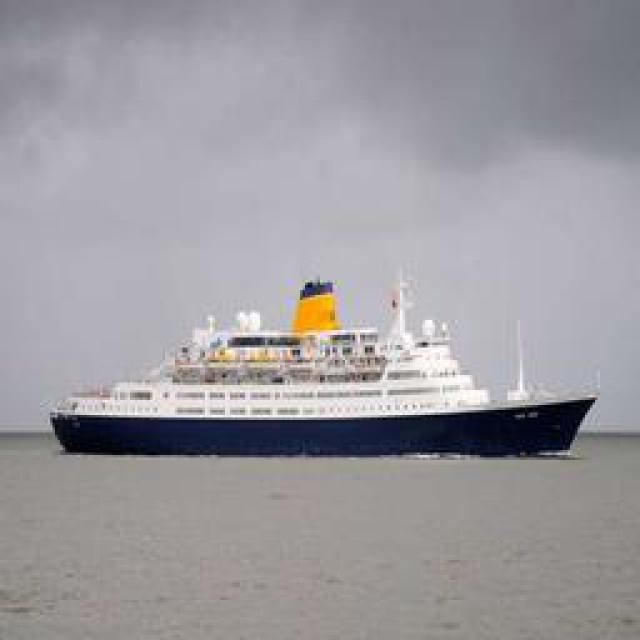Ship: (48, 264, 596, 459)
